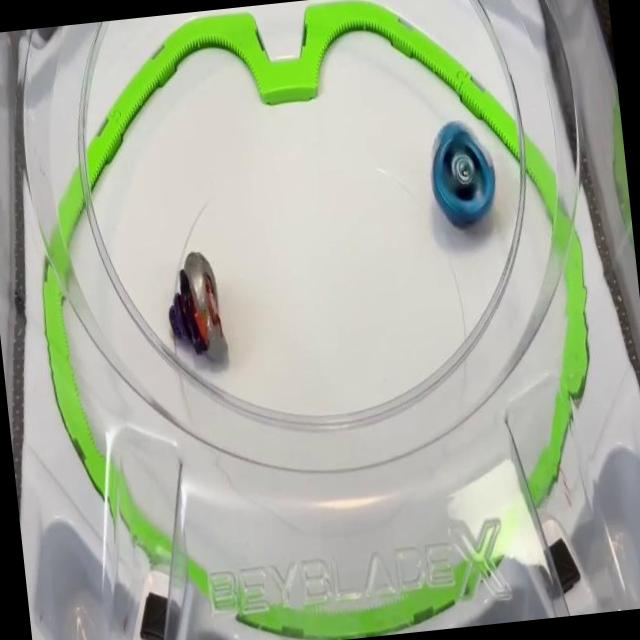Beyblade: (425, 116, 500, 232), (162, 249, 228, 361)
